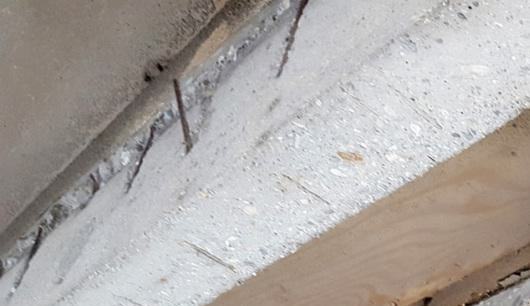Exposed reinforcement: (275, 1, 309, 79), (124, 125, 156, 196), (172, 78, 193, 155), (25, 225, 43, 264)
